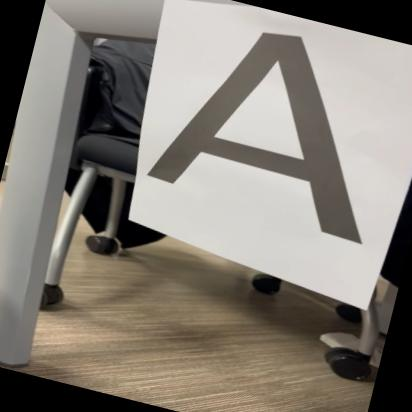seat: (126, 0, 412, 263)
